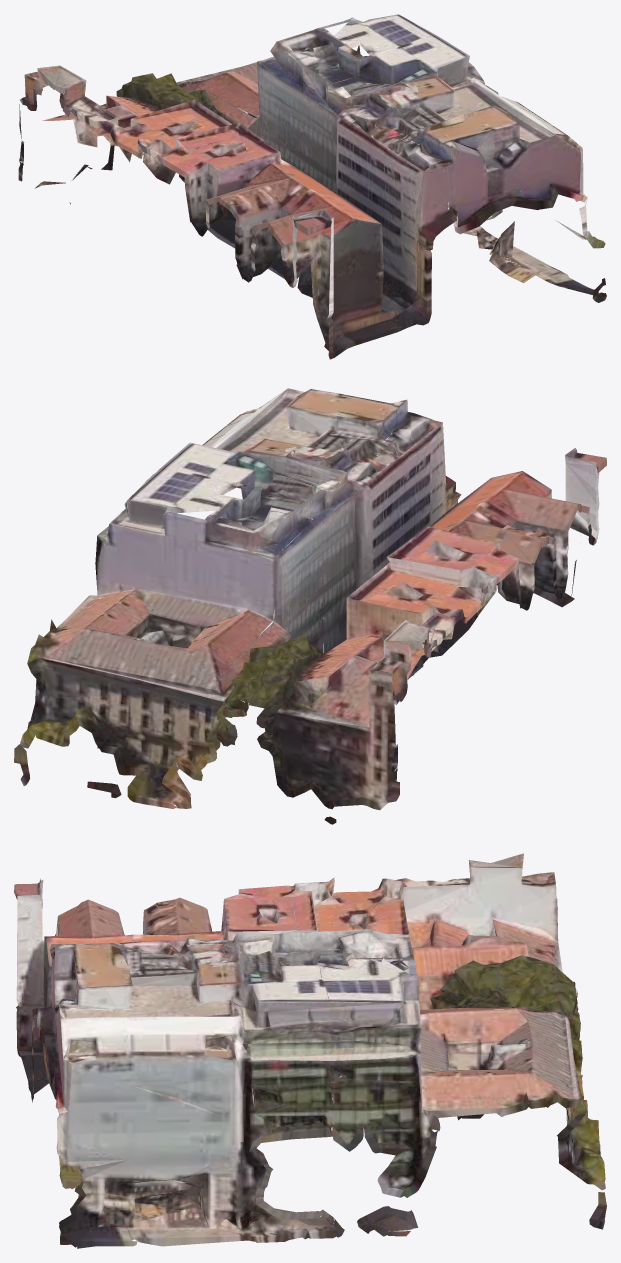
3 views of the same model, one above another, from view 1: azimuth 30°, elevation 25°; view 2: azimuth 150°, elevation 25°; view 3: azimuth 270°, elevation 25° (orthographic). The views are drawn at different scales.
Parts seen in each view (by area): view 1: Mesh_0; view 2: Mesh_0; view 3: Mesh_0.
Part boxes in pixels (box(x1,y1,x2,y2)): Mesh_0: box(18, 14, 606, 359); Mesh_0: box(14, 388, 606, 824); Mesh_0: box(14, 853, 606, 1248).
Bounding box in the file's own units: 67.77 × 34.78 × 82.58.
Materials: 1 (1 with a texture image).
